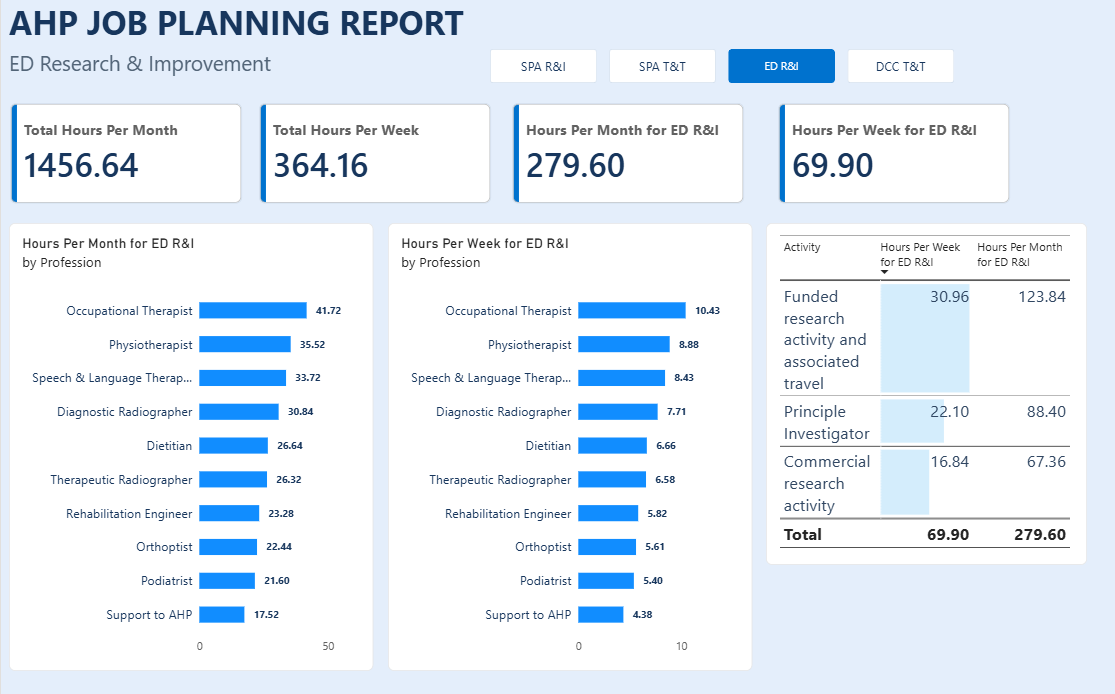

Layout of this report page (visuals, bound fields, positions):
{"tool":"powerbi","page":{"name":"ED R&I","canvas":[1440,900],"ordinal":2},"visuals":[{"type":"textbox","box":[10.3,0,595.9,78.9],"z":0},{"type":"textbox","box":[10,526,345,281],"z":1000},{"type":"textbox","box":[10.3,64.6,471.8,54.3],"z":2000},{"type":"pageNavigator","box":[632.1,64.6,600,44],"z":3000},{"type":"cardVisual","fields":{"Data":["Measure.Total Hours Per Month"]},"box":[11.6,134.4,300,130],"z":4000},{"type":"cardVisual","fields":{"Data":["Measure.Total Hours Per Week"]},"box":[333.5,134.4,300,130],"z":5000},{"type":"cardVisual","fields":{"Data":["Measure.Hours Per Month for ED R&I"]},"box":[660.5,134.4,300,130],"z":6000},{"type":"cardVisual","fields":{"Data":["Measure.Hours Per Week for ED R&I"]},"box":[1004.4,134.4,300,130],"z":7000},{"type":"clusteredBarChart","title":"Hours Per Month for ED R&I ","fields":{"Category":["Dim_Profession.Position Title"],"Y":["Measure.Hours Per Month for ED R&I"]},"box":[10.3,289.6,470.5,579.1],"z":8000},{"type":"tableEx","fields":{"Values":["Fact_Activity.Activity","Measure.Hours Per Week for ED R&I","Measure.Hours Per Month for ED R&I"]},"box":[988.9,289.6,414.9,442.1],"z":9000},{"type":"clusteredBarChart","title":"Hours Per Week for ED R&I ","fields":{"Category":["Dim_Profession.Position Title"],"Y":["Measure.Hours Per Week for ED R&I"]},"box":[500.3,289.6,470.5,579.1],"z":10000}]}

Visuals, with their boxes in screenshot pixels (x1, y1, x2, y2), scaled from the page's 1440x900 canvas onto the 1115x694 screenshot:
textbox: l=8, t=0, r=469, b=61
textbox: l=8, t=406, r=275, b=622
textbox: l=8, t=50, r=373, b=92
pageNavigator: l=489, t=50, r=954, b=84
cardVisual - Measure.Total Hours Per Month: l=9, t=104, r=241, b=204
cardVisual - Measure.Total Hours Per Week: l=258, t=104, r=491, b=204
cardVisual - Measure.Hours Per Month for ED R&I: l=511, t=104, r=744, b=204
cardVisual - Measure.Hours Per Week for ED R&I: l=778, t=104, r=1010, b=204
"Hours Per Month for ED R&I " clusteredBarChart: l=8, t=223, r=372, b=670
tableEx - Fact_Activity.Activity x Measure.Hours Per Week for ED R&I: l=766, t=223, r=1087, b=564
"Hours Per Week for ED R&I " clusteredBarChart: l=387, t=223, r=752, b=670
